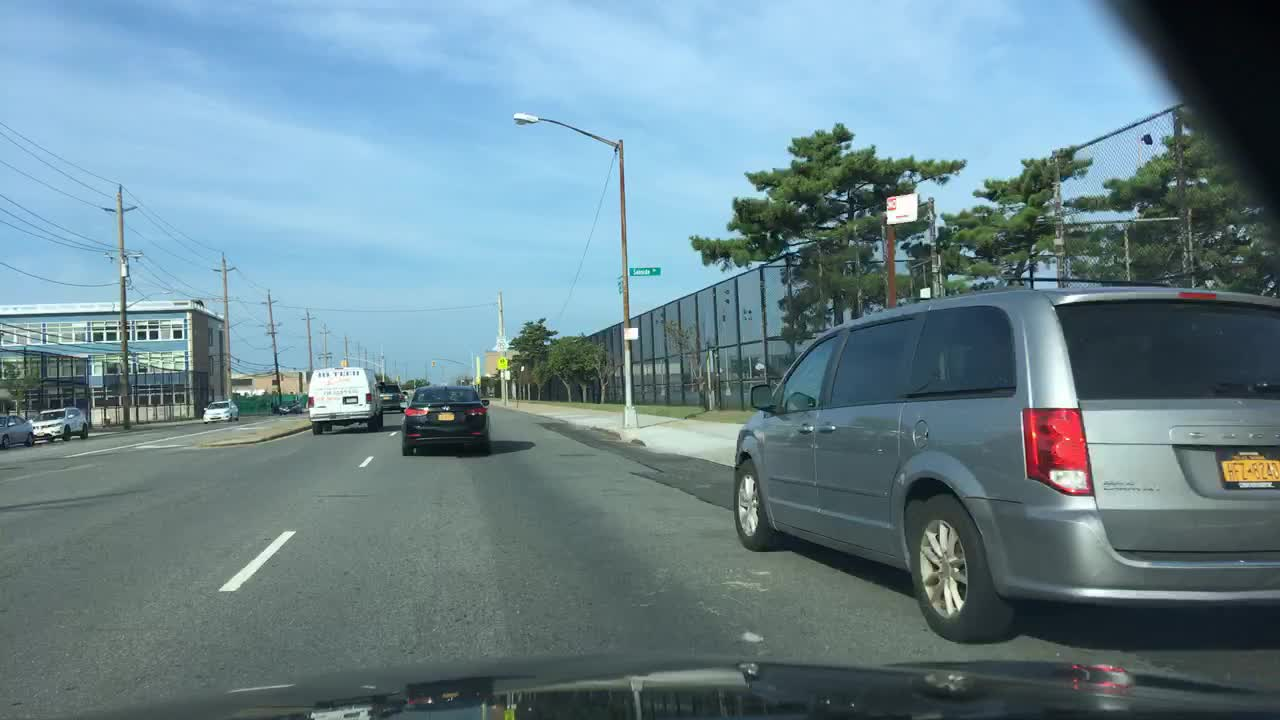car: (733, 291, 1278, 646), (402, 386, 489, 456), (308, 366, 381, 433), (32, 408, 89, 440), (1, 413, 34, 447), (375, 383, 408, 410), (203, 400, 236, 421), (278, 400, 302, 415), (615, 276, 624, 292)
traffic sign: (887, 194, 916, 225), (628, 266, 661, 275), (494, 336, 507, 350), (624, 327, 637, 339), (497, 357, 506, 369), (503, 369, 510, 383)
